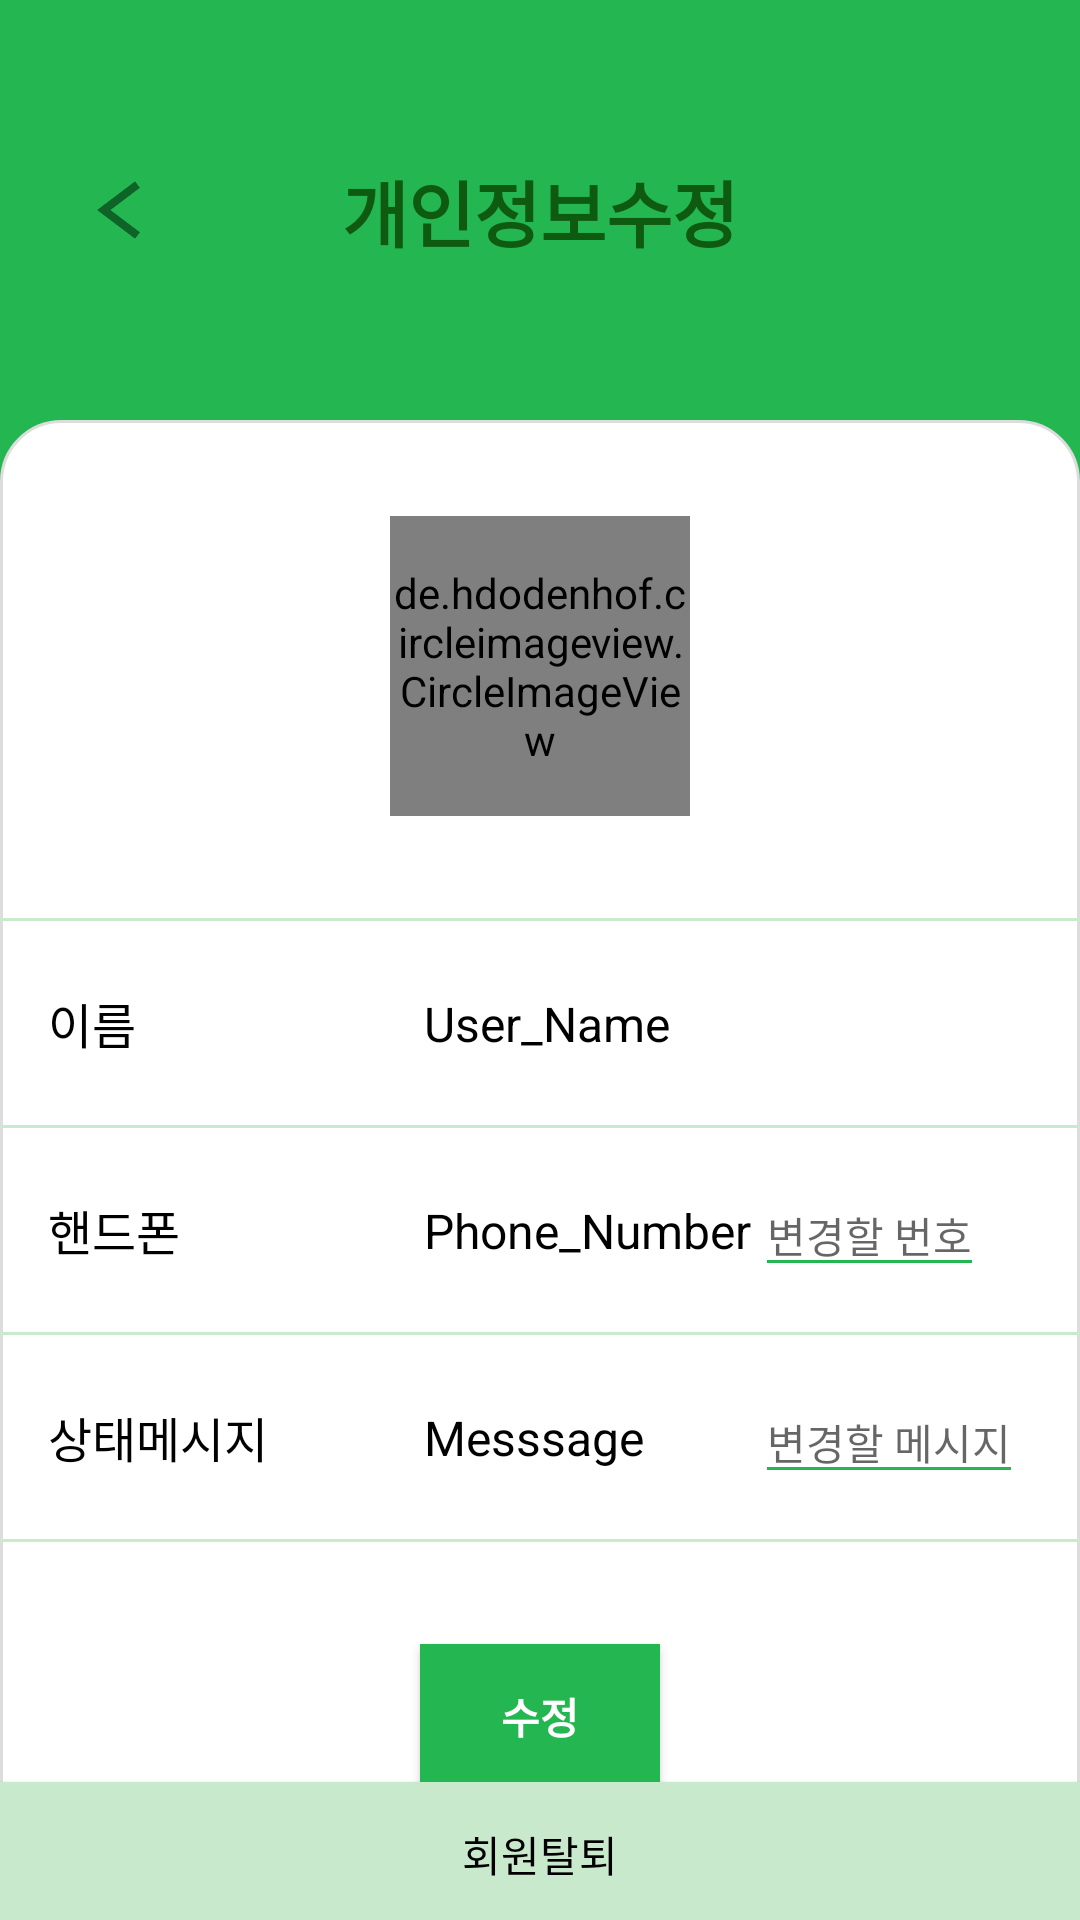

Icons on this 1080 × 1920 Android screen, each with the point to tap as (x=x, y=y):
gohome: (x=119, y=210)
